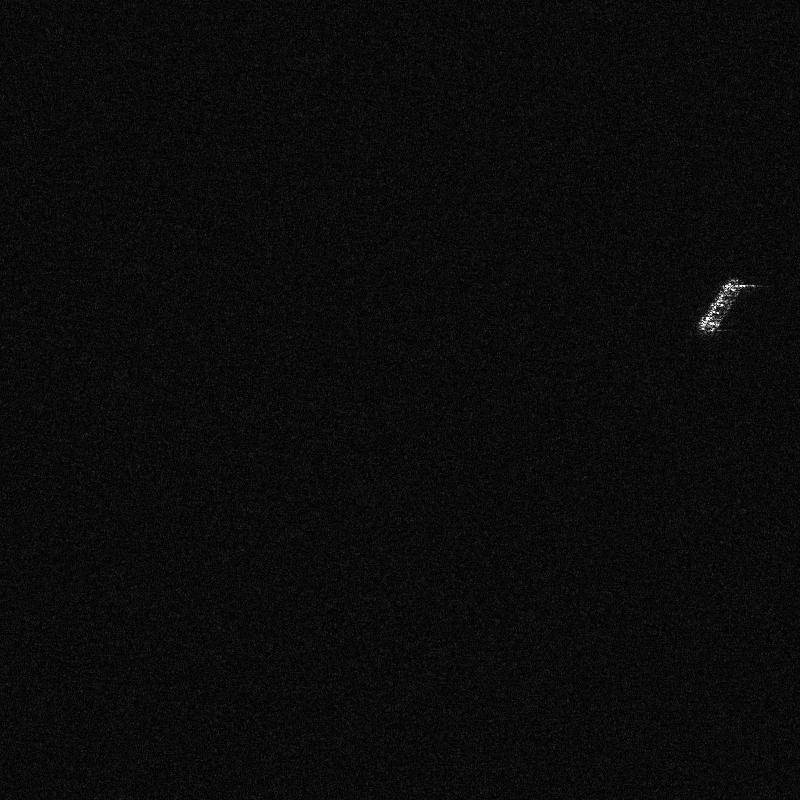ship: (697, 278, 742, 333)
